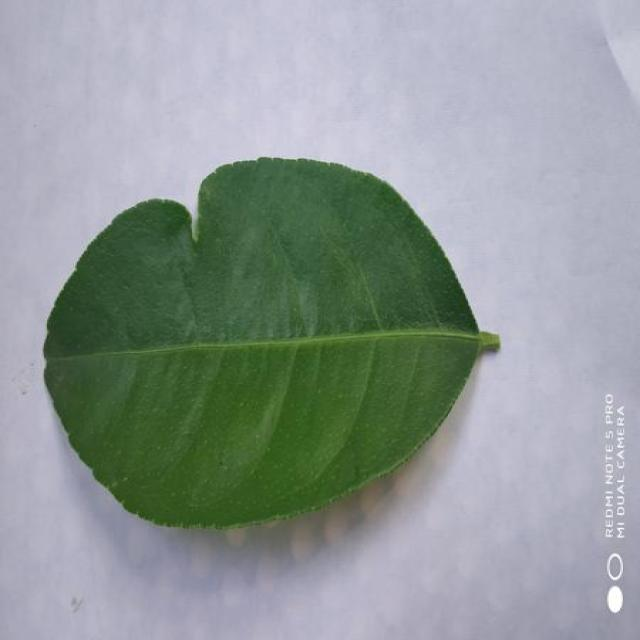citron lime: (47, 158, 500, 528)
